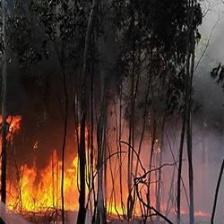fire: (2, 121, 189, 224)
